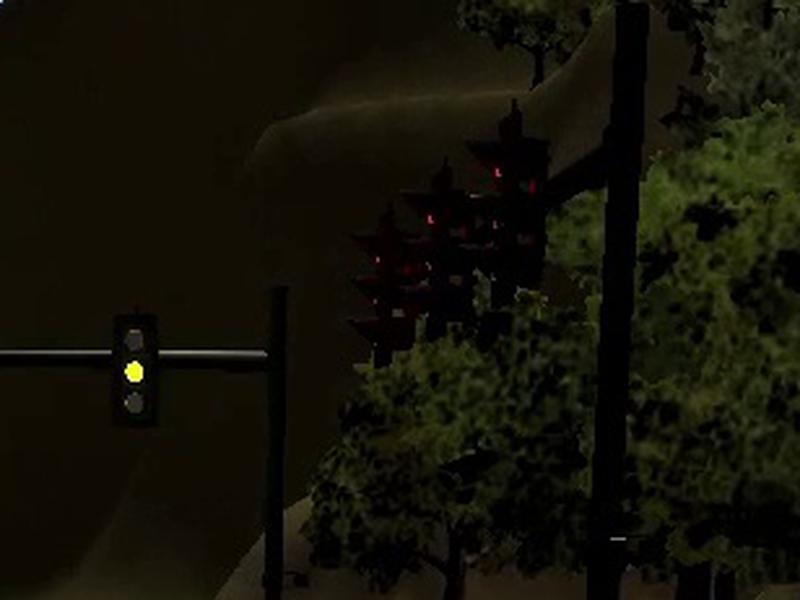Yellow: (112, 313, 160, 429)
